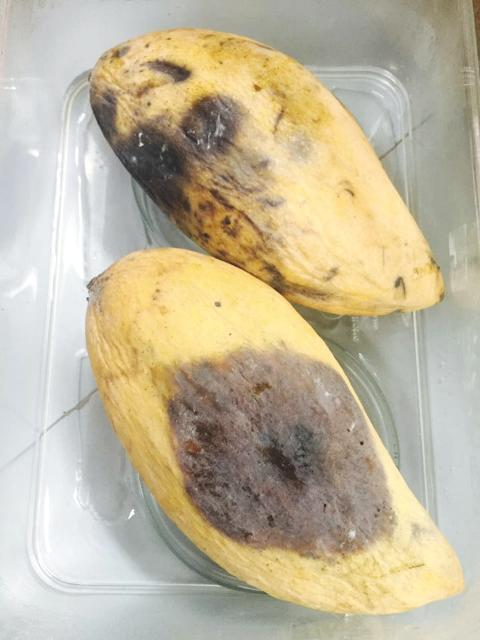Mango Overripe: (86, 29, 463, 611)
